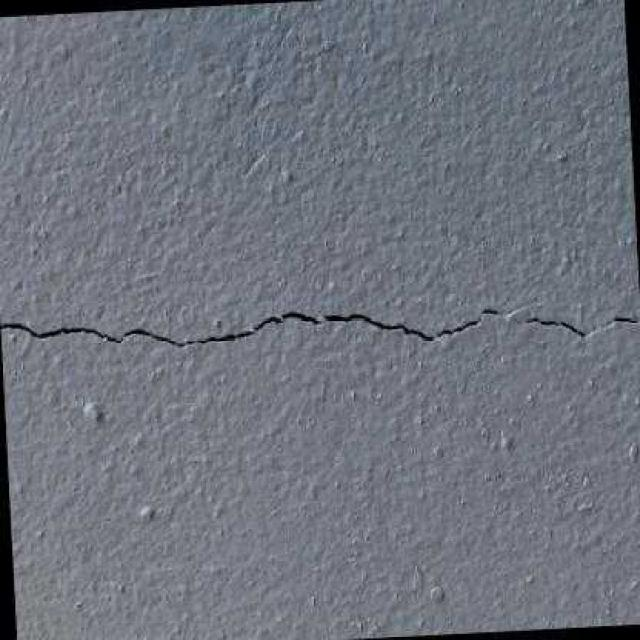D00: (1, 308, 639, 347)
